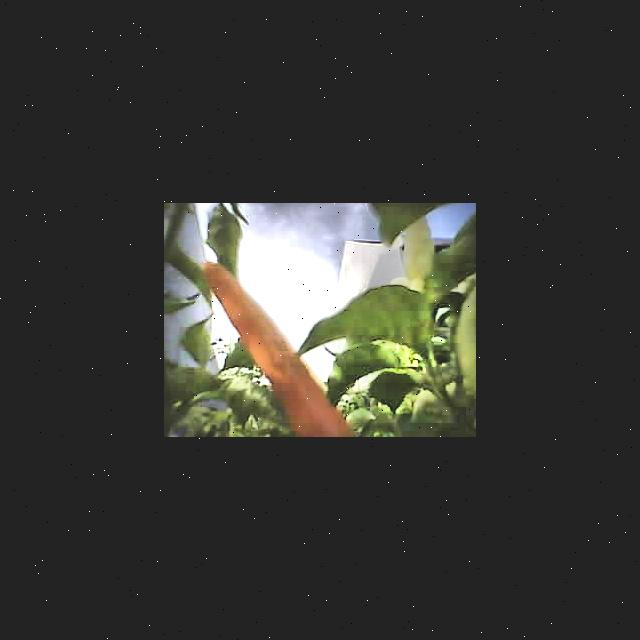Cabai: (206, 263, 295, 376)
